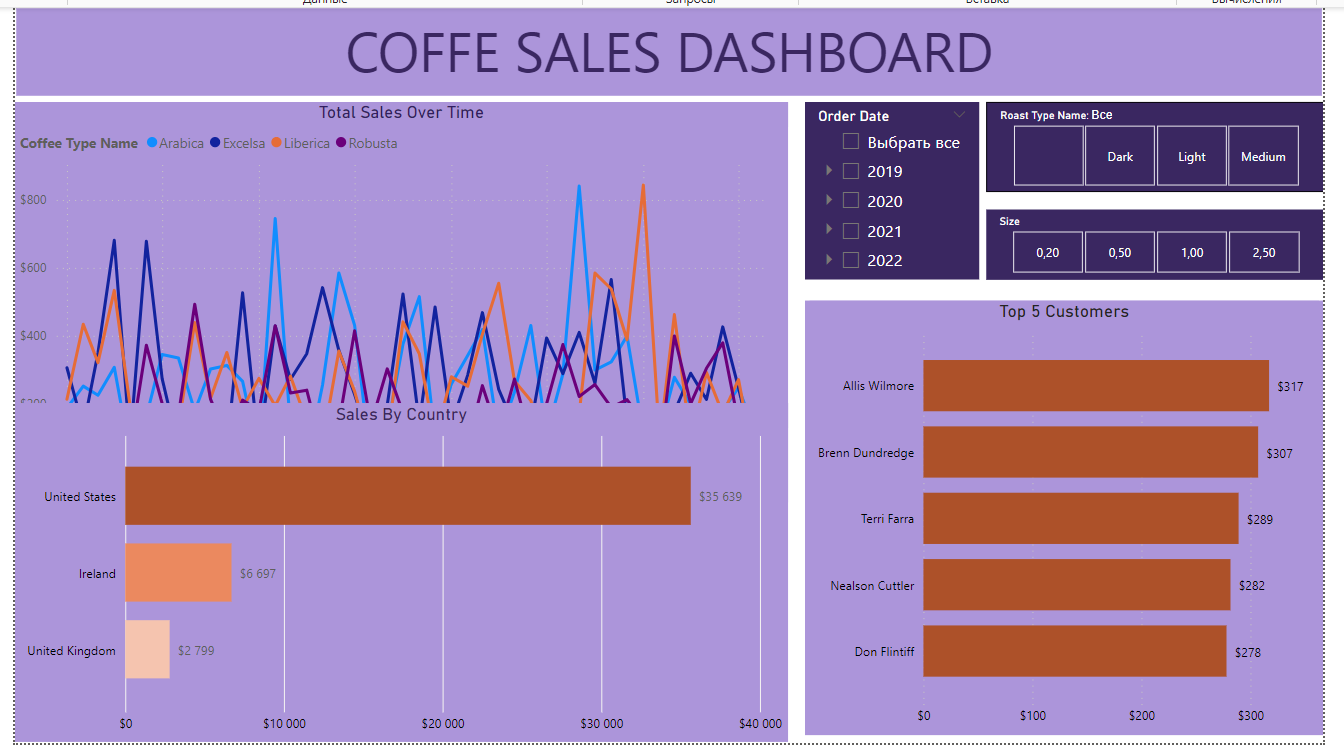

This screenshot's page, from the dashboard's own definition file:
{"tool":"powerbi","page":{"name":"Страница 1","canvas":[1280,720],"ordinal":0},"visuals":[{"type":"lineChart","title":"Total Sales Over Time","fields":{"Category":["orders (2).Order Date.Изменение.Иерархия дат.Год","orders (2).Order Date.Изменение.Иерархия дат.Месяц"],"Y":["orders (2).Sales"],"Series":["orders (2).Coffee Type Name"]},"box":[0,92.9,755.7,391.4],"z":0},{"type":"barChart","title":"Sales By Country","fields":{"Y":["orders (2).Sales"],"Category":["orders (2).Country"]},"box":[0,387.1,755.7,331.4],"z":1000},{"type":"barChart","title":"Top 5 Customers","fields":{"Y":["orders (2).Sales"],"Category":["orders (2).Customer Name"]},"box":[772.9,286.9,507.1,424.6],"z":2000},{"type":"slicer","fields":{"Values":["orders (2).Roast Type Name"]},"box":[950,92.9,330,88],"z":3000},{"type":"slicer","fields":{"Values":["orders (2).Size"]},"box":[950,198.6,330,68.6],"z":3001},{"type":"slicer","fields":{"Values":["orders (2).Order Date.Изменение.Иерархия дат.Год","orders (2).Order Date.Изменение.Иерархия дат.Квартал","orders (2).Order Date.Изменение.Иерархия дат.Месяц","orders (2).Order Date.Изменение.Иерархия дат.День"]},"box":[772.9,92.9,170,173.4],"z":3002},{"type":"textbox","box":[1.4,1.4,1277.1,85.4],"z":3003}]}

Visuals, with their boxes in screenshot pixels (x1, y1, x2, y2):
"Total Sales Over Time" lineChart: l=10, t=98, r=782, b=498
"Sales By Country" barChart: l=10, t=399, r=782, b=737
"Top 5 Customers" barChart: l=800, t=296, r=1318, b=730
slicer - orders (2).Roast Type Name: l=981, t=98, r=1318, b=188
slicer - orders (2).Size: l=981, t=206, r=1318, b=276
slicer - orders (2).Order Date.Изменение.Иерархия дат.Год x orders (2).Order Date.Изменение.Иерархия дат.Квартал: l=800, t=98, r=973, b=275
textbox: l=12, t=5, r=1316, b=92
